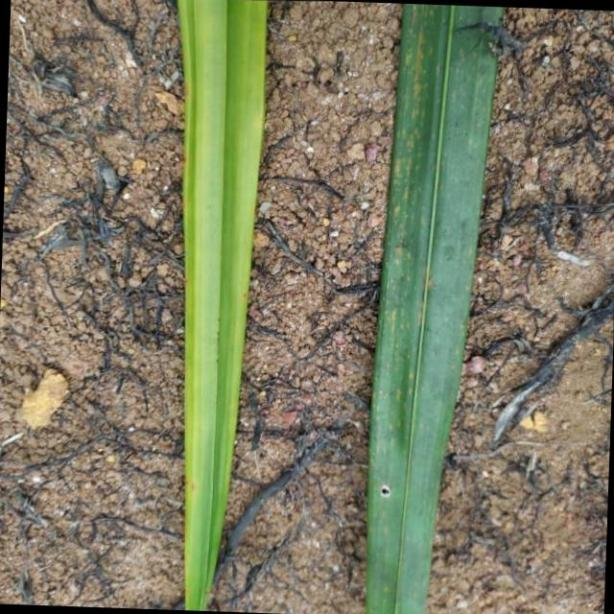nitrogen: (364, 0, 500, 614), (172, 0, 268, 614)
